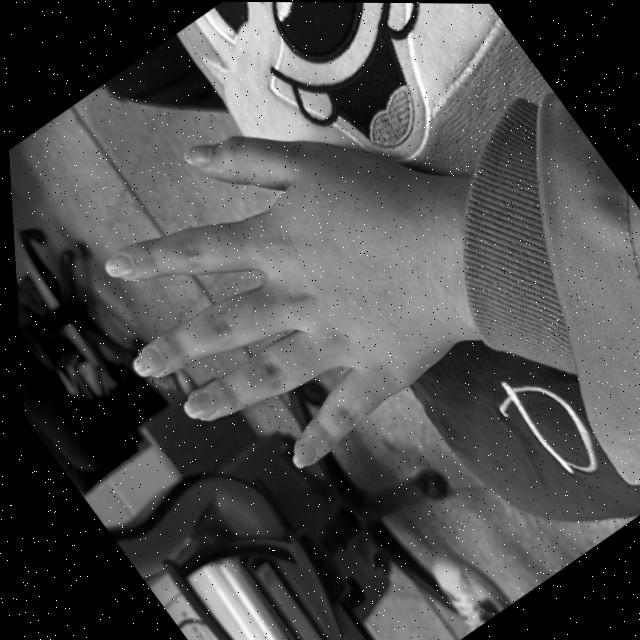no-gloves: (29, 62, 508, 524)
